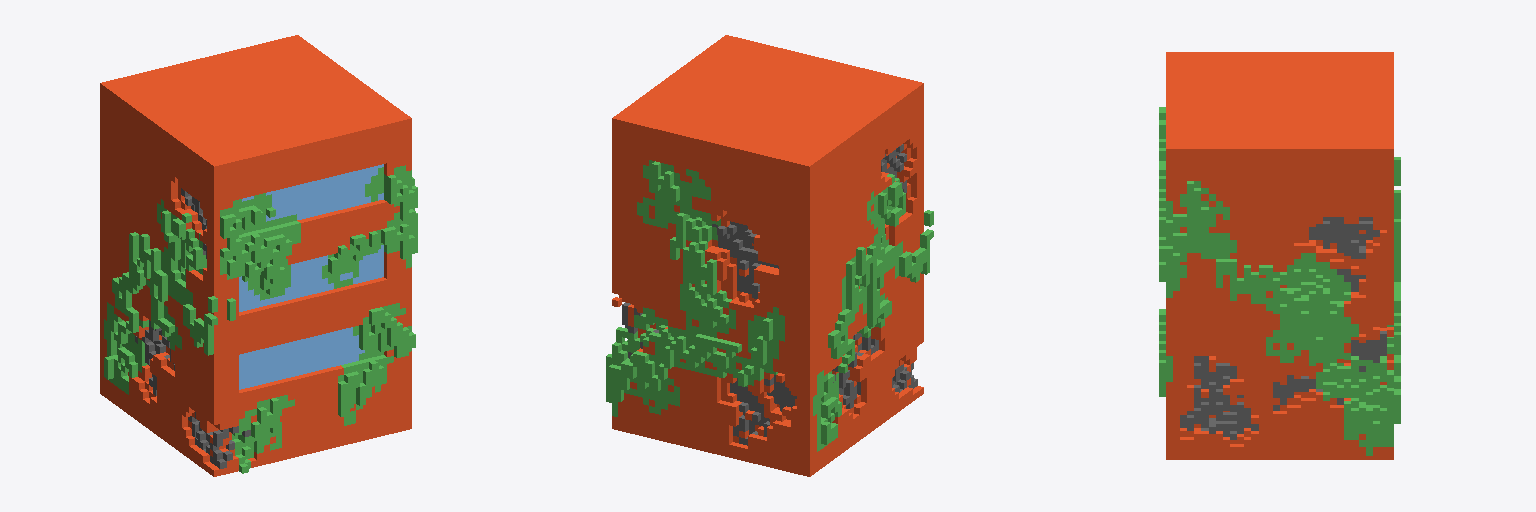
3 renders of one model, left to right at view 1: azimuth 30°, elevation 25°; view 2: azimuth 150°, elevation 25°; view 3: azimuth 270°, elevation 25°, orthographic.
Parts seen in each view (by area): view 1: object 1; view 2: object 1; view 3: object 1.
Boxes of the visible parts, <box> form: object 1: <box>100,35,417,476</box>; object 1: <box>606,35,933,476</box>; object 1: <box>1159,52,1400,459</box>.
Size of the model in its own units: 3.4 by 4.8 by 3.4.
1 materials, 1 textured.